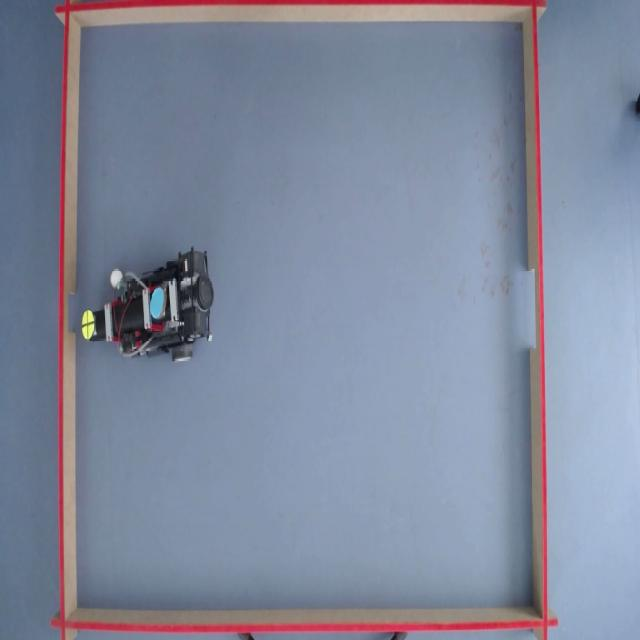robot: (78, 259, 220, 361)
robot-front: (81, 310, 95, 340)
robot-rear: (150, 286, 168, 322)
white: (111, 269, 122, 286)
